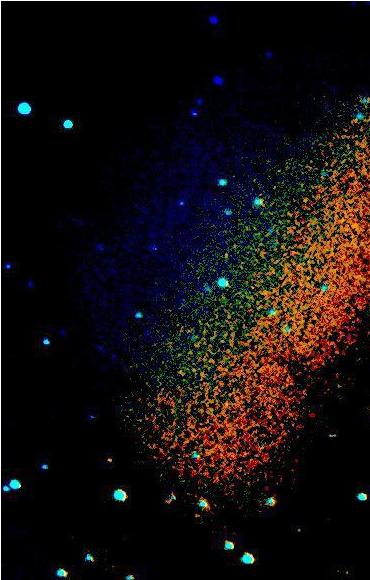star: (94, 446, 124, 476)
